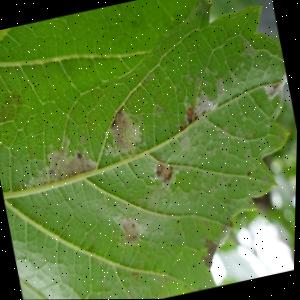Folha: (0, 0, 300, 300)
Fungo: (35, 70, 244, 214), (137, 75, 244, 190), (14, 129, 100, 196), (97, 186, 176, 253), (175, 74, 231, 127), (104, 103, 146, 158), (195, 219, 241, 269), (112, 206, 150, 250), (212, 113, 256, 149), (0, 88, 30, 135), (259, 64, 291, 102), (150, 153, 178, 190), (189, 86, 219, 118), (197, 236, 223, 269), (118, 214, 143, 248), (235, 33, 261, 65), (176, 106, 197, 131), (212, 76, 228, 101), (177, 131, 193, 151), (182, 106, 196, 126), (151, 102, 164, 118), (0, 111, 1, 151)
